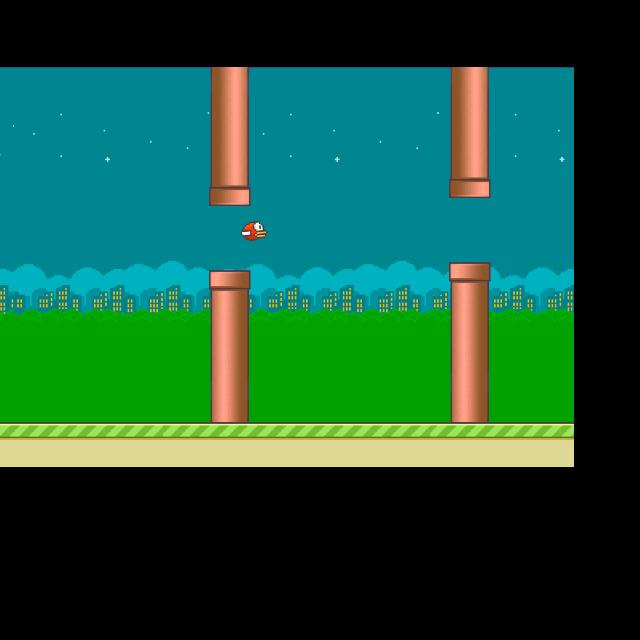bird: (242, 221, 267, 241)
pipedown: (449, 261, 490, 411), (209, 270, 251, 409)
pipeup: (210, 70, 250, 206), (448, 75, 490, 198)
